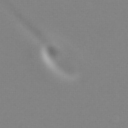normal: (1, 1, 49, 45)
